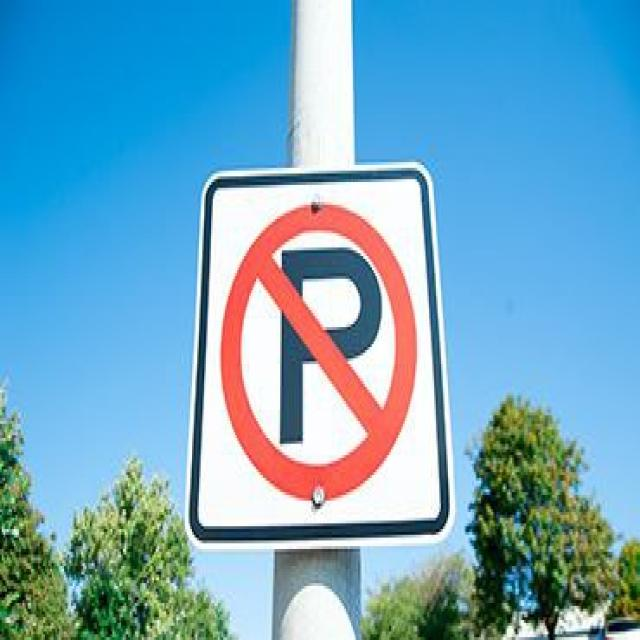No_parking: (219, 206, 417, 494)
